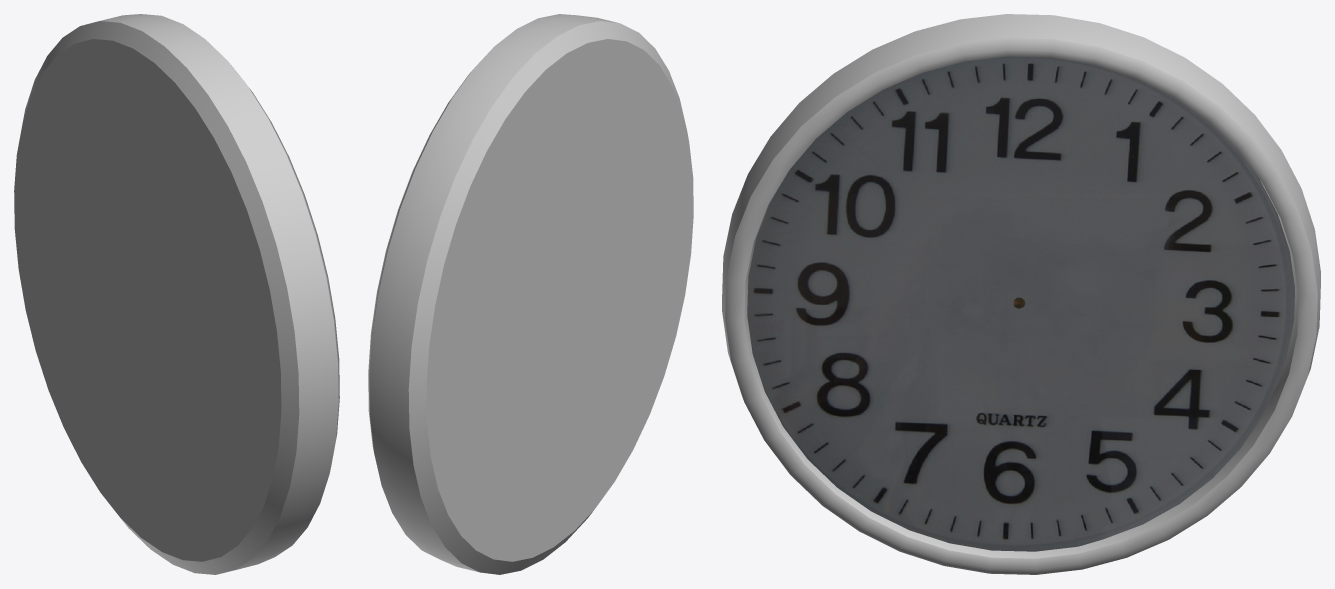
The model's file is Clock_obj.obj.
3 views of the same model, side by side, from view 1: azimuth 30°, elevation 25°; view 2: azimuth 150°, elevation 25°; view 3: azimuth 270°, elevation 25° (orthographic). The views are drawn at different scales.
Parts seen in each view (by area): view 1: Mesh; view 2: Mesh; view 3: Mesh.
Boxes of the visible parts, x1,y1,x2,y2 form: Mesh: (14, 14, 339, 574); Mesh: (368, 14, 693, 574); Mesh: (722, 14, 1320, 574).
Bounding box in the file's own units: 0.1027 × 0.8916 × 0.8916.
